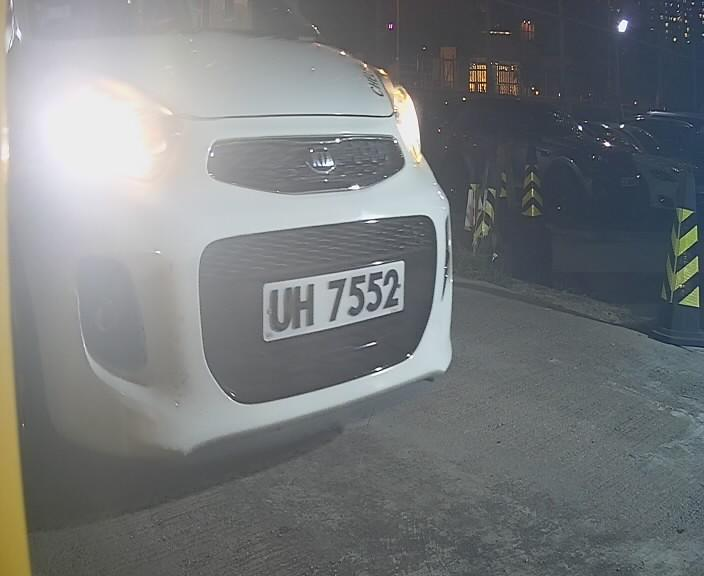License Plate: (261, 258, 409, 345)
